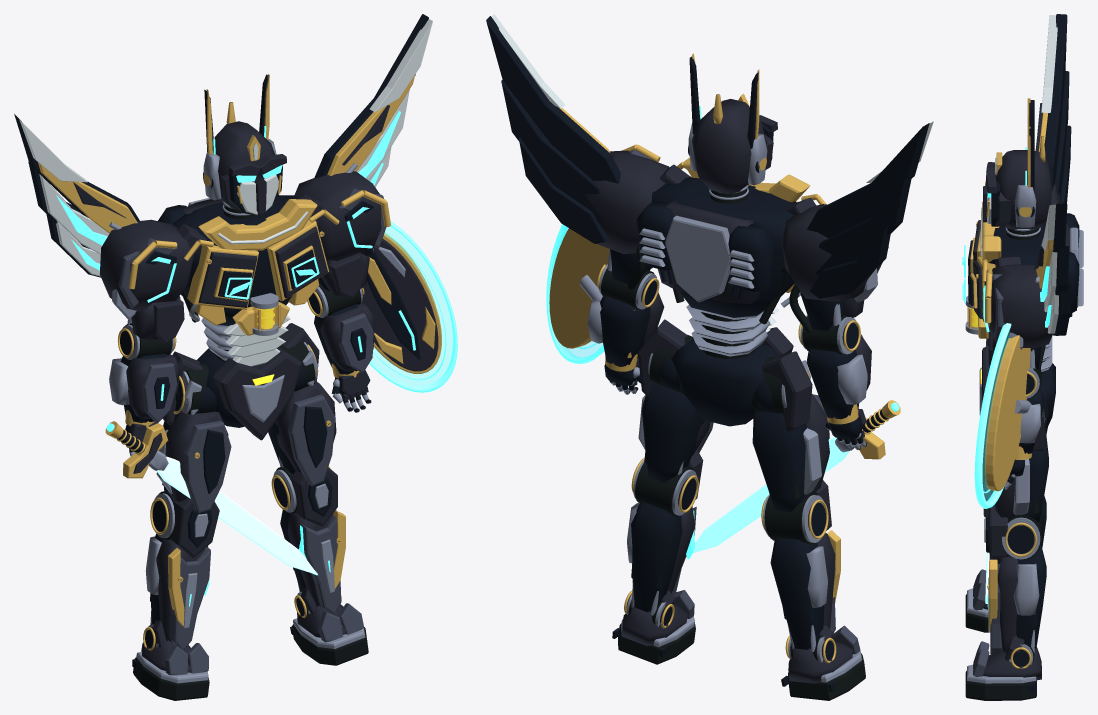
The model's file is sentinel.glb.
3 views of the same model, side by side, from view 1: azimuth 30°, elevation 25°; view 2: azimuth 150°, elevation 25°; view 3: azimuth 270°, elevation 25° (orthographic). The views are drawn at different scales.
Visible parts, largest first — view 1: torso__warm_gold_armor_edges, arm_r__graphite_armored_ceramic, arm_l__graphite_armored_ceramic, pelvis__graphite_armored_ceramic, torso__near_black_mechanisms, reserve_shield__graphite_armored_ceramic, torso__graphite_armored_ceramic, head__graphite_armored_ceramic, shoulder_wing_r__silver_ceramic_blade_tips, cash_core, shoulder_wing_l__silver_ceramic_blade_tips, reserve_field (+50 smaller); view 2: shoulder_wing_l__near_black_mechanisms, torso__near_black_mechanisms, shoulder_wing_r__near_black_mechanisms, torso__pale_gunmetal_joints, pelvis__near_black_mechanisms, head__graphite_armored_ceramic, shin_l__near_black_mechanisms, arm_l__graphite_armored_ceramic, reserve_shield__warm_gold_armor_edges, leg_l__near_black_mechanisms, shin_r__near_black_mechanisms, pelvis__graphite_armored_ceramic (+34 smaller); view 3: reserve_shield__warm_gold_armor_edges, arm_l__graphite_armored_ceramic, head__graphite_armored_ceramic, shoulder_wing_r__near_black_mechanisms, shin_l__graphite_armored_ceramic, torso__near_black_mechanisms, shin_l__near_black_mechanisms, shin_l__pale_gunmetal_joints, reserve_shield__reserve_cyan_edge, shoulder_wing_l__near_black_mechanisms, torso__warm_gold_armor_edges, foot_l__joint_bellows (+35 smaller).
Boxes of the visible parts, <box> form: torso__warm_gold_armor_edges: <box>184,199,339,335</box>; arm_r__graphite_armored_ceramic: <box>99,219,193,343</box>; arm_l__graphite_armored_ceramic: <box>294,171,381,298</box>; pelvis__graphite_armored_ceramic: <box>162,323,319,440</box>; torso__near_black_mechanisms: <box>158,195,323,325</box>; reserve_shield__graphite_armored_ceramic: <box>361,238,438,371</box>; torso__graphite_armored_ceramic: <box>176,194,327,307</box>; head__graphite_armored_ceramic: <box>214,121,286,215</box>; shoulder_wing_r__silver_ceramic_blade_tips: <box>19,119,109,276</box>; cash_core: <box>156,456,317,574</box>; shoulder_wing_l__silver_ceramic_blade_tips: <box>356,19,432,186</box>; reserve_field: <box>371,226,452,385</box>; shoulder_wing_l__near_black_mechanisms: <box>486,16,620,243</box>; torso__near_black_mechanisms: <box>636,177,796,317</box>; shoulder_wing_r__near_black_mechanisms: <box>807,123,929,298</box>; torso__pale_gunmetal_joints: <box>639,184,800,356</box>; pelvis__near_black_mechanisms: <box>658,338,779,426</box>; head__graphite_armored_ceramic: <box>692,99,777,194</box>; shin_l__near_black_mechanisms: <box>631,478,696,612</box>; arm_l__graphite_armored_ceramic: <box>585,150,669,268</box>; reserve_shield__warm_gold_armor_edges: <box>549,228,609,348</box>; leg_l__near_black_mechanisms: <box>641,383,704,483</box>; shin_r__near_black_mechanisms: <box>770,502,826,649</box>; pelvis__graphite_armored_ceramic: <box>637,319,812,431</box>; reserve_shield__warm_gold_armor_edges: <box>984,335,1030,491</box>; arm_l__graphite_armored_ceramic: <box>988,264,1052,367</box>; head__graphite_armored_ceramic: <box>983,150,1051,229</box>; shoulder_wing_r__near_black_mechanisms: <box>1044,14,1071,203</box>; shin_l__graphite_armored_ceramic: <box>988,505,1017,651</box>; torso__near_black_mechanisms: <box>968,213,1079,316</box>; shin_l__near_black_mechanisms: <box>986,517,1046,648</box>; shin_l__pale_gunmetal_joints: <box>984,517,1040,652</box>; reserve_shield__reserve_cyan_edge: <box>974,323,1011,508</box>; shoulder_wing_l__near_black_mechanisms: <box>1052,203,1071,335</box>; torso__warm_gold_armor_edges: <box>970,201,1001,338</box>; foot_l__joint_bellows: <box>965,643,1036,700</box>.
Size of the model in its own units: 3.85 by 5.2 by 1.04.
